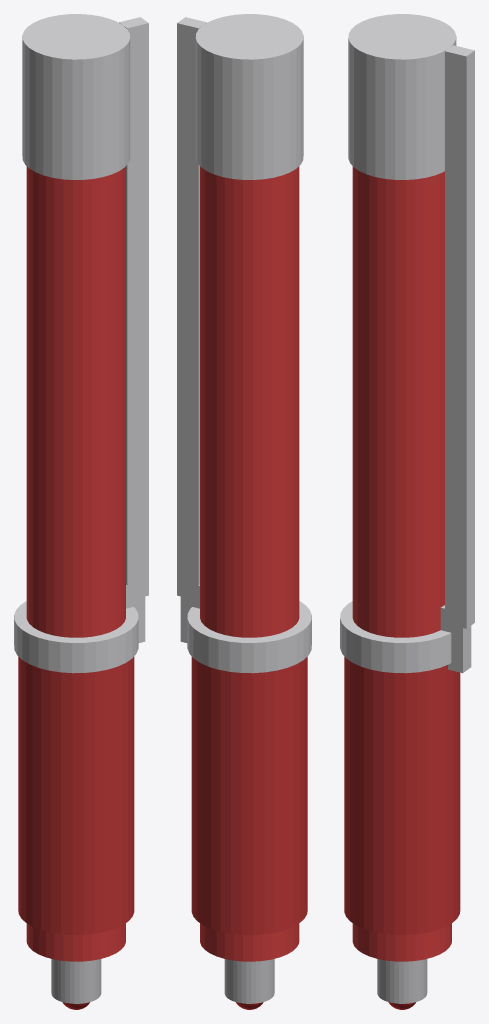
Rendered from Pen_red.glb.
The picture shows the model from 3 angles, left to right: view 1: azimuth 30°, elevation 25°; view 2: azimuth 150°, elevation 25°; view 3: azimuth 330°, elevation 25°; orthographic projection.
Parts seen in each view (by area): view 1: PenBody, PenGrip, PenKnock, PenClip, PenRing, PenTip, PenClipTip; view 2: PenBody, PenGrip, PenKnock, PenClip, PenRing, PenTip, PenClipTip; view 3: PenBody, PenGrip, PenClip, PenKnock, PenRing, PenTip, PenClipTip.
Boxes of the visible parts, x1=… form: PenBody: x1=26, y1=166, x2=125, y2=961; PenGrip: x1=18, y1=656, x2=134, y2=934; PenKnock: x1=22, y1=14, x2=130, y2=179; PenClip: x1=119, y1=17, x2=148, y2=596; PenRing: x1=14, y1=601, x2=138, y2=673; PenTip: x1=51, y1=959, x2=101, y2=1003; PenClipTip: x1=126, y1=581, x2=145, y2=642; PenBody: x1=200, y1=166, x2=299, y2=961; PenGrip: x1=191, y1=656, x2=307, y2=934; PenKnock: x1=195, y1=14, x2=303, y2=179; PenClip: x1=177, y1=17, x2=206, y2=596; PenRing: x1=187, y1=601, x2=311, y2=673; PenTip: x1=224, y1=959, x2=274, y2=1003; PenClipTip: x1=180, y1=581, x2=199, y2=642; PenBody: x1=352, y1=166, x2=451, y2=961; PenGrip: x1=344, y1=656, x2=460, y2=934; PenClip: x1=445, y1=45, x2=474, y2=628; PenKnock: x1=348, y1=14, x2=456, y2=179; PenRing: x1=340, y1=601, x2=451, y2=673; PenTip: x1=377, y1=959, x2=427, y2=1003; PenClipTip: x1=440, y1=605, x2=471, y2=673.
Bounding box in the file's own units: 0.017 × 0.129 × 0.015.
